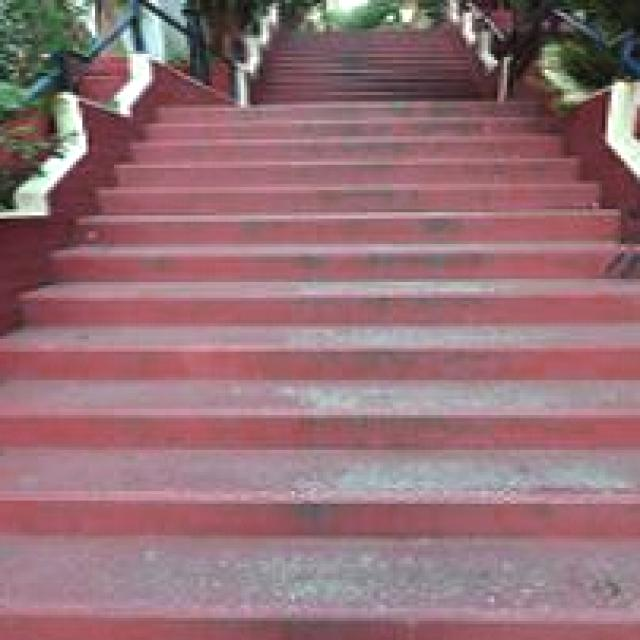upstair: (13, 226, 640, 640)
